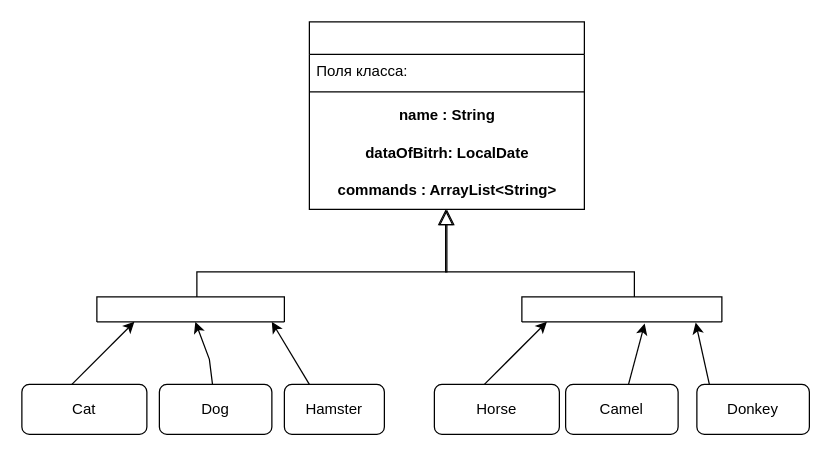
Image size: 831x456. Some labels were removed from this diagram. The box of each missing label's shape, as (x1, y1, x2, y2) in pixels:
PackAnimals: (521, 296, 722, 322)
Pets: (96, 296, 284, 322)
Родительский класс: Animal: (308, 21, 584, 209)
